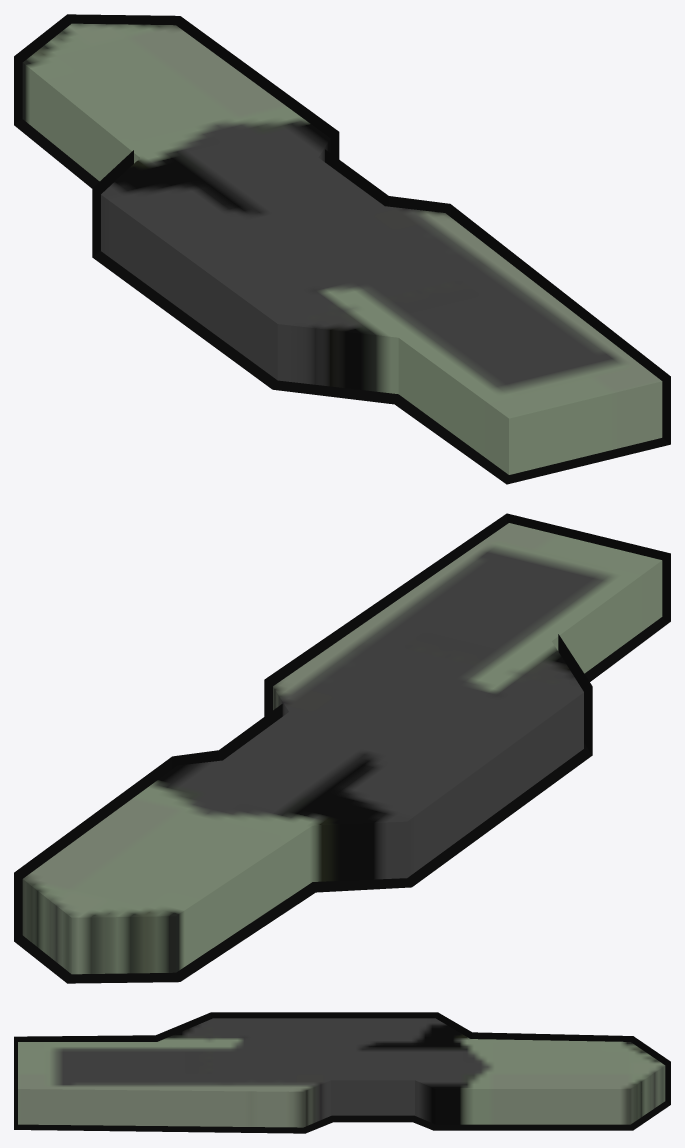
The model's file is Item_Apparel_PsychicShockLance_Things_Item_Artifact_PsychicShockLance_PsychicShockLance.glb.
The picture shows the model from 3 angles, top to bottom: view 1: azimuth 30°, elevation 25°; view 2: azimuth 150°, elevation 25°; view 3: azimuth 270°, elevation 25°; orthographic projection. The views are drawn at different scales.
Parts seen in each view (by area): view 1: Body, Outline; view 2: Body, Outline; view 3: Body, Outline.
Part boxes in pixels (x1,y1,x2,y2): Body: (22,23,662,474); Outline: (14,14,670,484); Body: (22,523,662,974); Outline: (14,513,670,983); Body: (18,1018,665,1127); Outline: (14,1012,670,1133).
Size of the model in its own units: 0.2066 by 0.0569 by 0.7373.
Materials: 2 (1 with a texture image).
